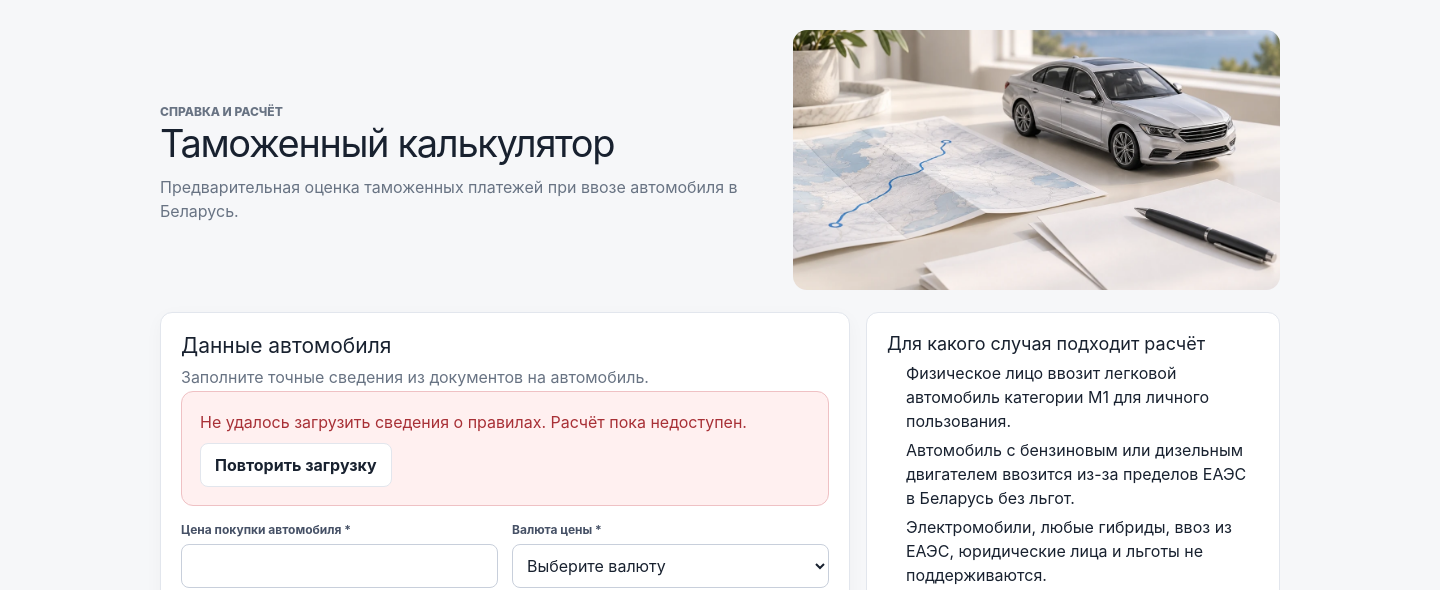
Test: customs calculator form › loads unavailable metadata again when retrying a failed metadata request
This screenshot has width=1440, height=590.
Expected: the message shows "Не удалось загрузить сведения о правилах", x1=200 y1=412 x2=747 y2=432
Click the button "Повторить загрузку" at (296,465), box x1=200 y1=443 x2=392 y2=487
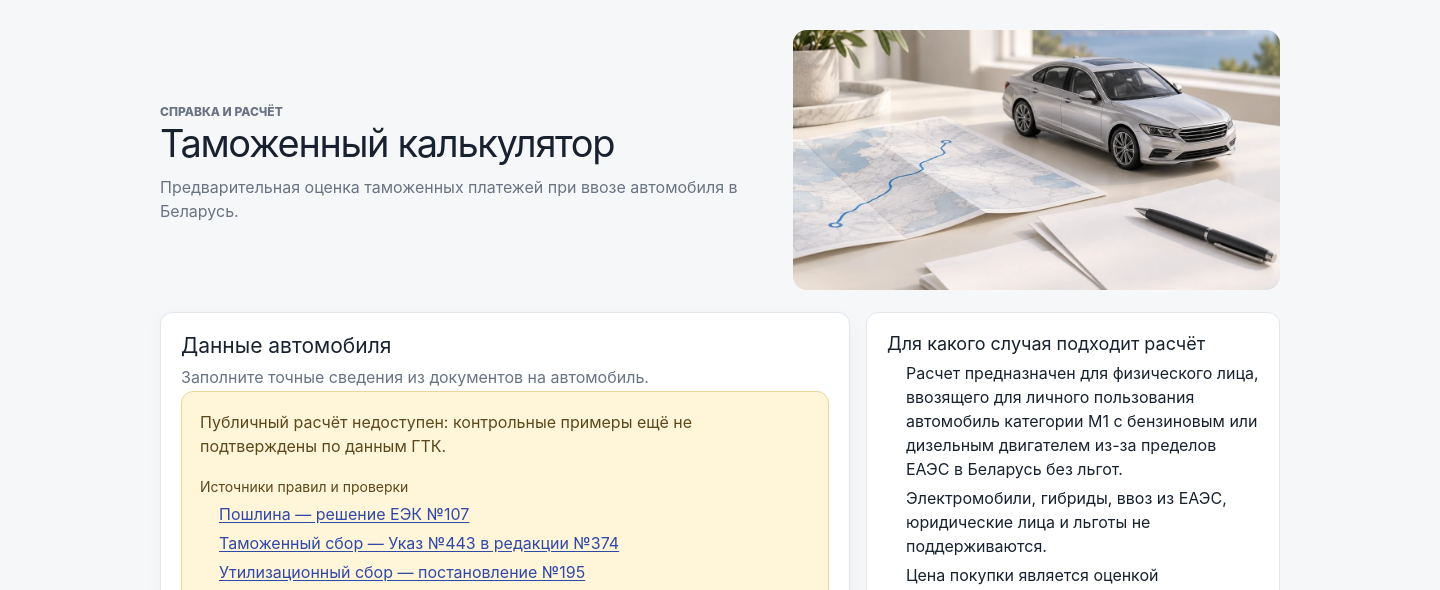
Now the text "контрольные примеры ещё не подтверждены по данным ГТК" is shown, box x1=200 y1=412 x2=692 y2=456
